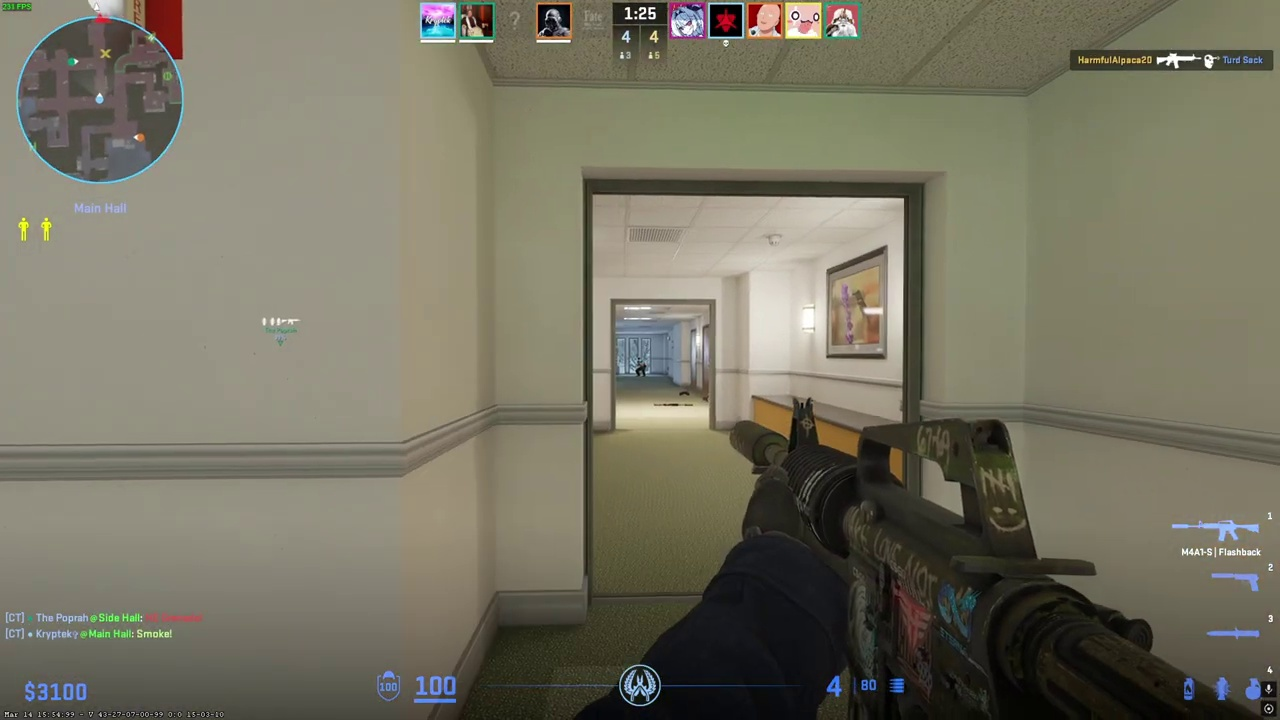Terrorist: (635, 358, 646, 378)
